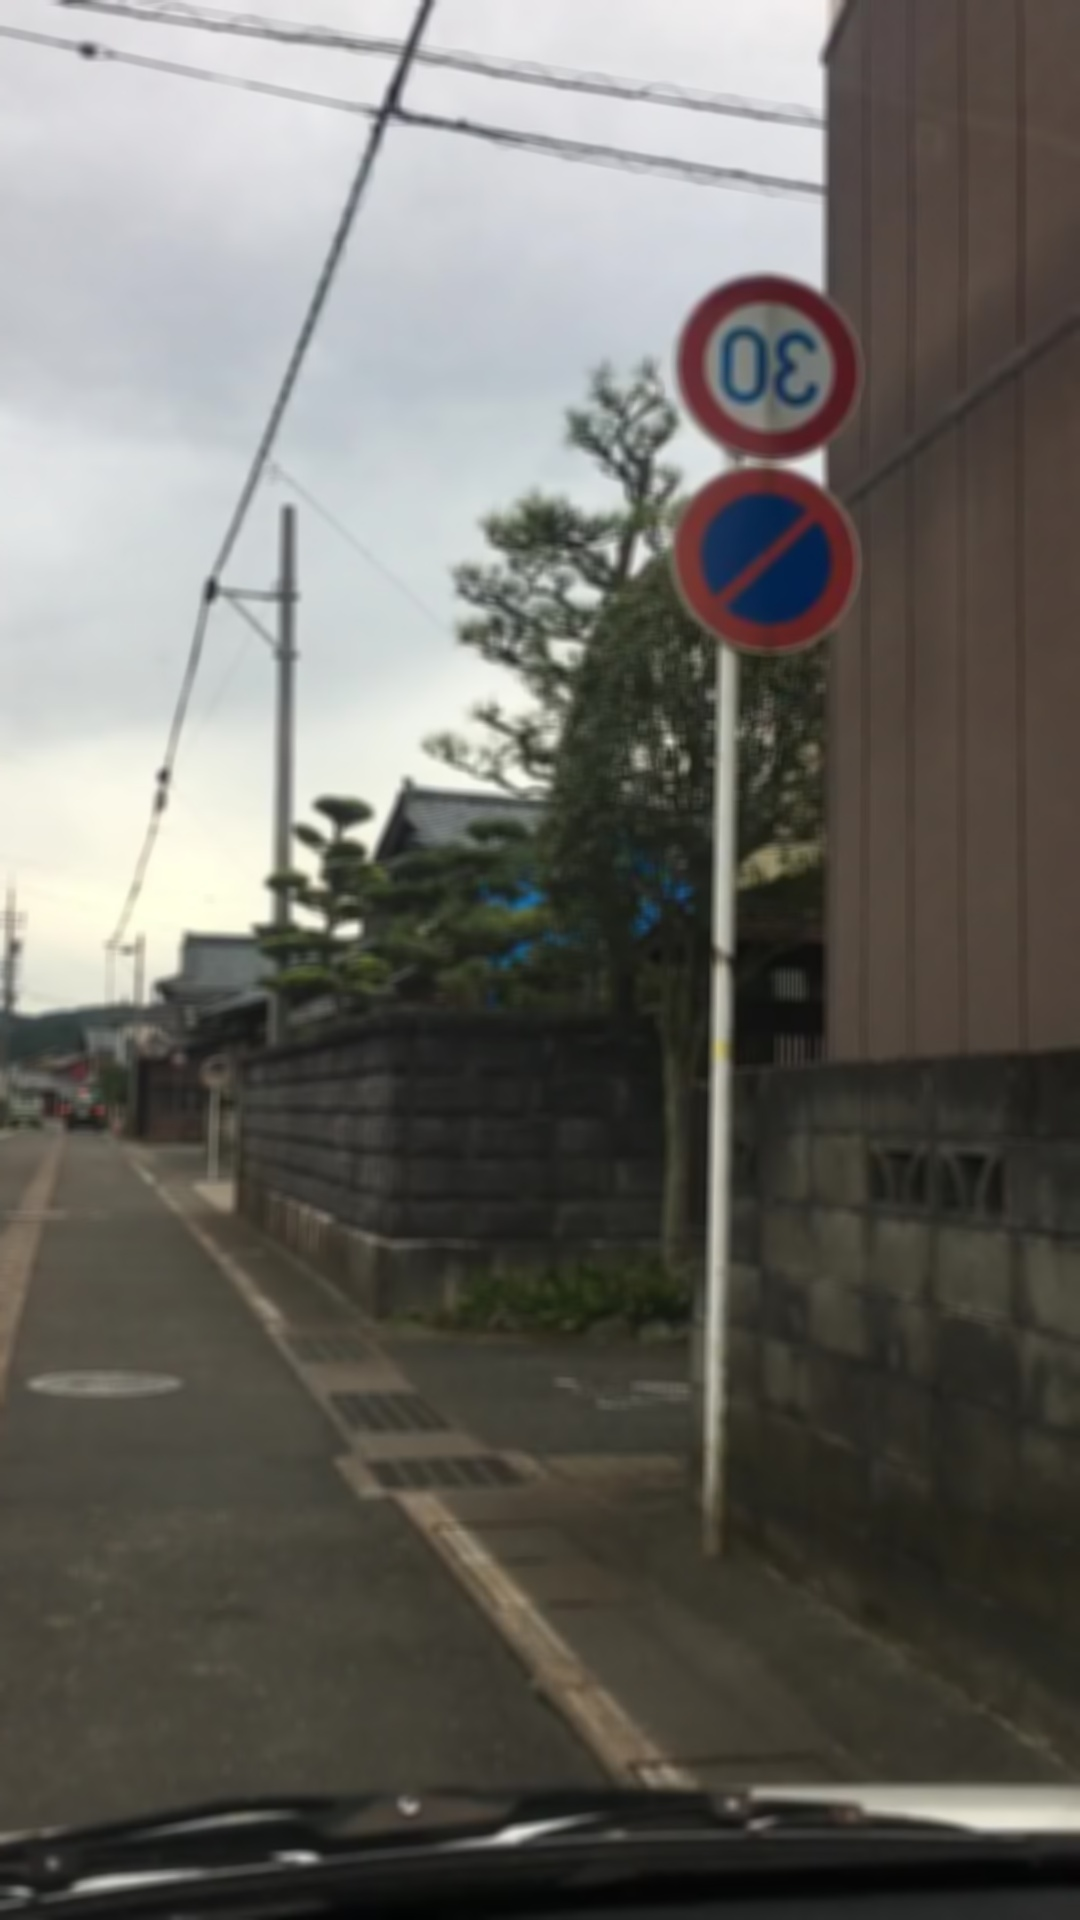Prohibition_sign: (669, 460, 872, 666)
Speed_sign: (670, 268, 870, 456)
